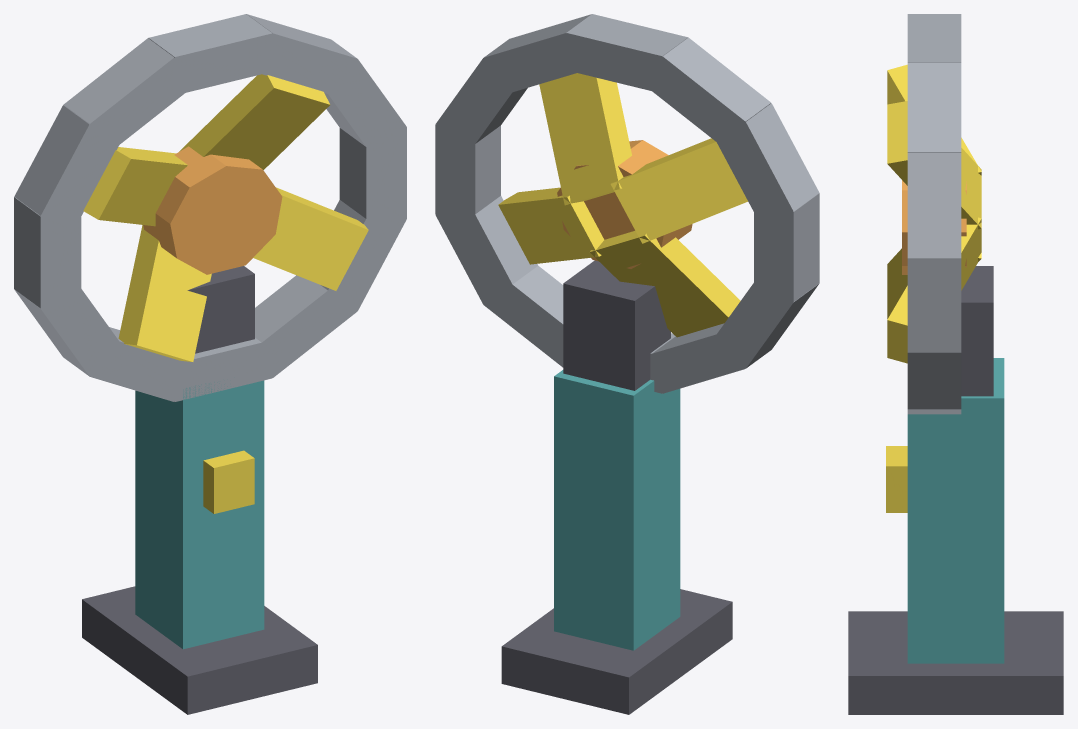
Rendered from fan_handheld.glb.
The picture shows the model from 3 angles, left to right: view 1: azimuth 30°, elevation 25°; view 2: azimuth 150°, elevation 25°; view 3: azimuth 270°, elevation 25°; orthographic projection. The views are drawn at different scales.
Parts seen in each view (by area): view 1: fan_handheld; view 2: fan_handheld; view 3: fan_handheld.
Part boxes in pixels (box(x1,y1,x2,y2)): fan_handheld: box(14, 14, 406, 714); fan_handheld: box(435, 14, 819, 714); fan_handheld: box(848, 14, 1063, 714).
Size of the model in its own units: 0.5 by 0.825 by 0.25.
